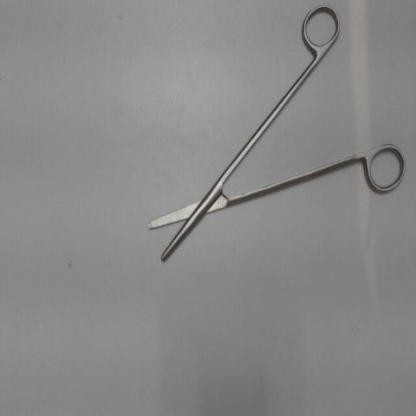9 Metzenbaum Scissors: (141, 0, 411, 269)
